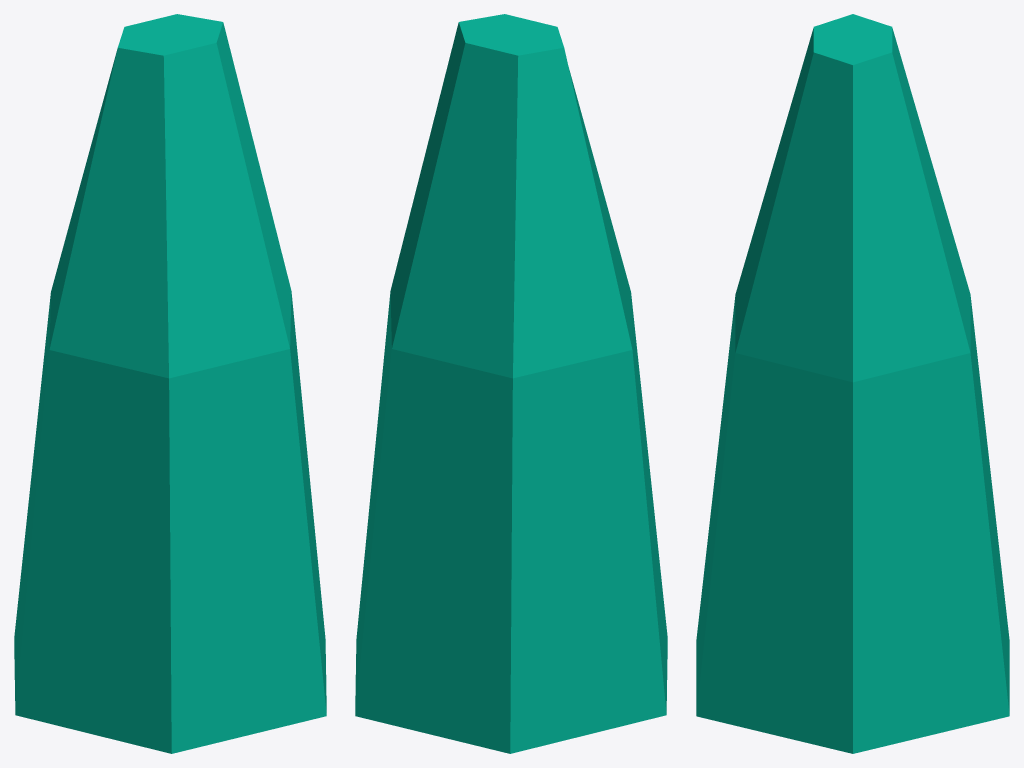
The model's file is star fruit.fbx.
The picture shows the model from 3 angles, left to right: view 1: azimuth 30°, elevation 25°; view 2: azimuth 150°, elevation 25°; view 3: azimuth 270°, elevation 25°; orthographic projection.
Parts seen in each view (by area): view 1: SF0; view 2: SF0; view 3: SF0.
Boxes of the visible parts, box(x1,y1,x2,y2) form: SF0: box(14, 14, 326, 753); SF0: box(355, 14, 667, 753); SF0: box(696, 14, 1009, 753).
Size of the model in its own units: 5.68 by 11.25 by 5.
Materials: 1 (1 with a texture image).
